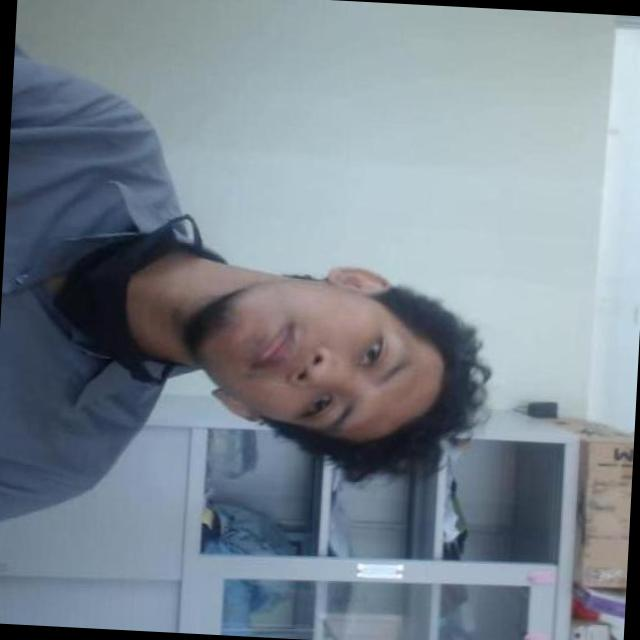bareface: (188, 282, 436, 456)
